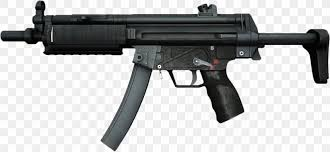gun: (0, 1, 329, 151)
